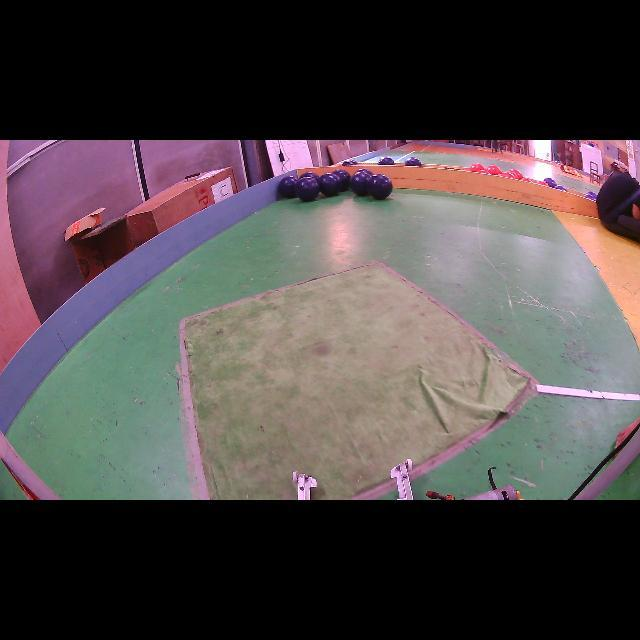B: (366, 174, 392, 200), (295, 176, 320, 201), (319, 172, 341, 196), (350, 172, 369, 196), (279, 176, 298, 199), (332, 169, 351, 191), (299, 171, 319, 181), (378, 156, 395, 165), (405, 158, 421, 166), (356, 169, 372, 176), (342, 159, 358, 166)
P: (544, 178, 556, 188), (555, 185, 568, 191)
